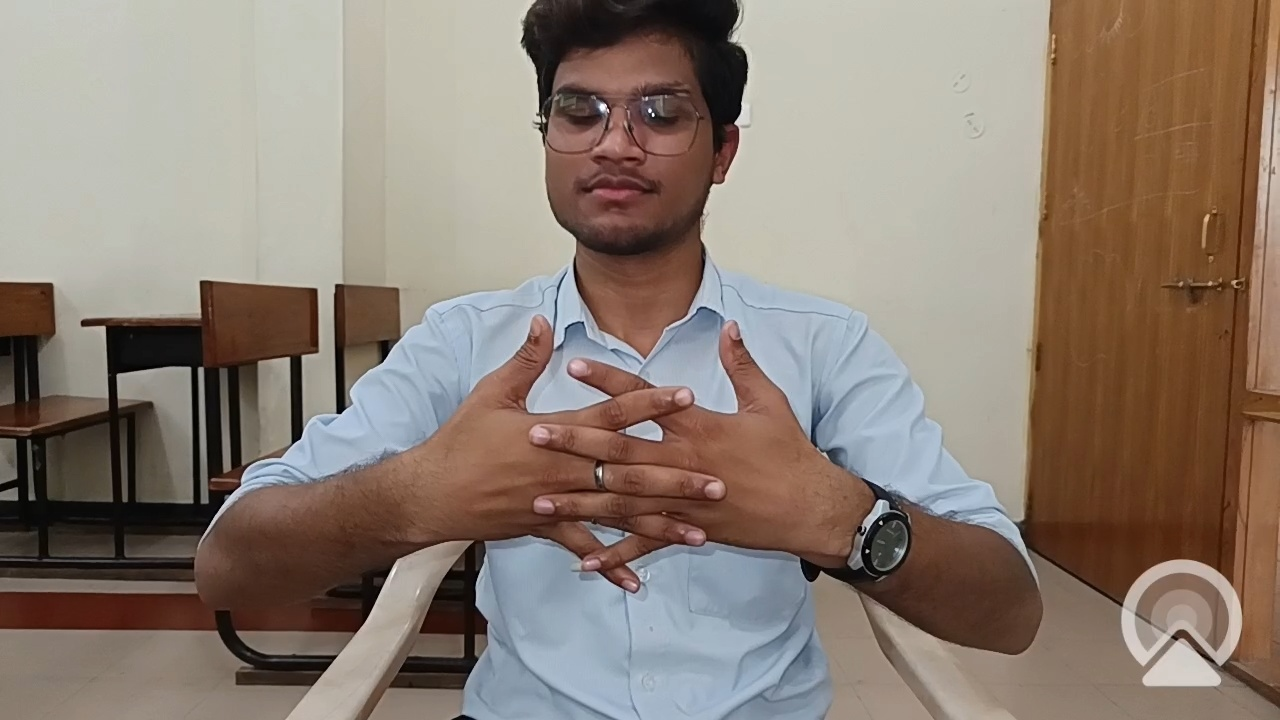W: (379, 286, 875, 625)
